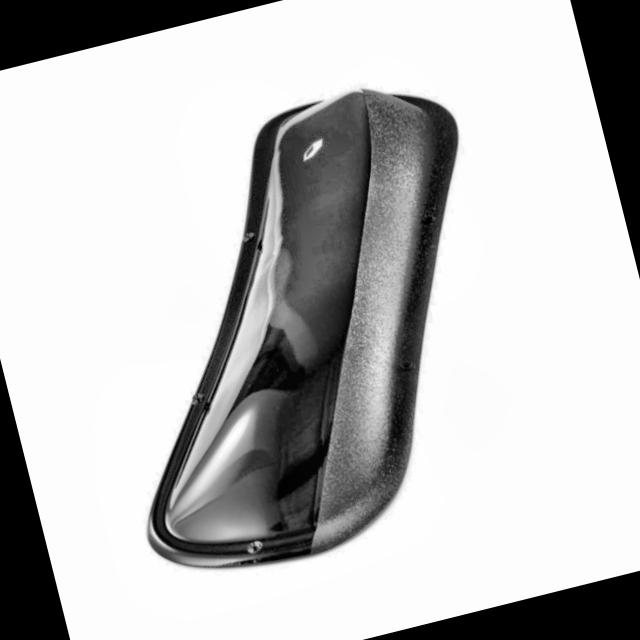Hold: (119, 62, 463, 596)
